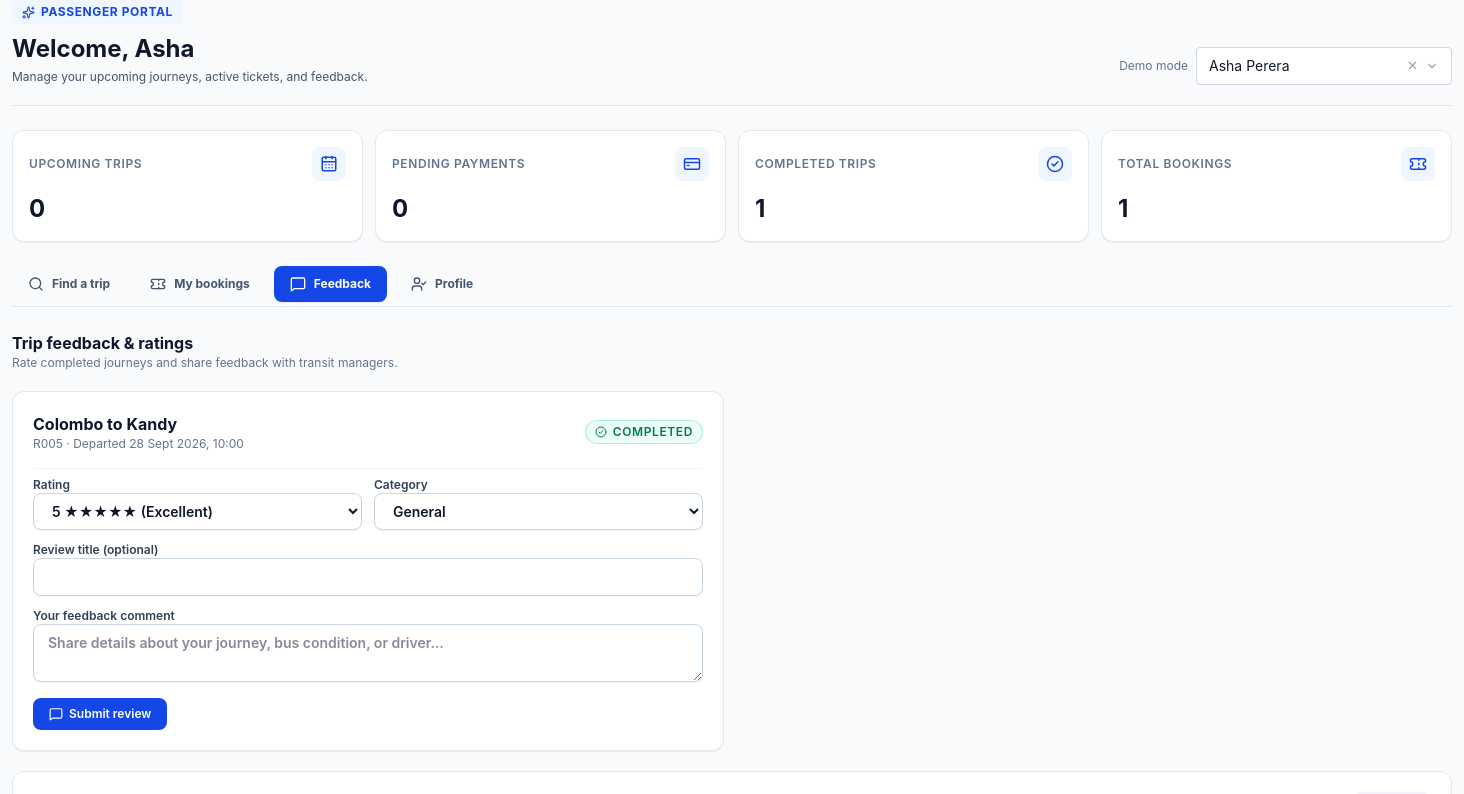
Scenario: Passenger review submission › shows the backend JSON error without showing a success message
Replace the text in the text box with placeholder "Share details about your journey, bus condition, or driver..." with "Keep this draft on failure.": [368, 652] box x1=33 y1=624 x2=703 y2=682
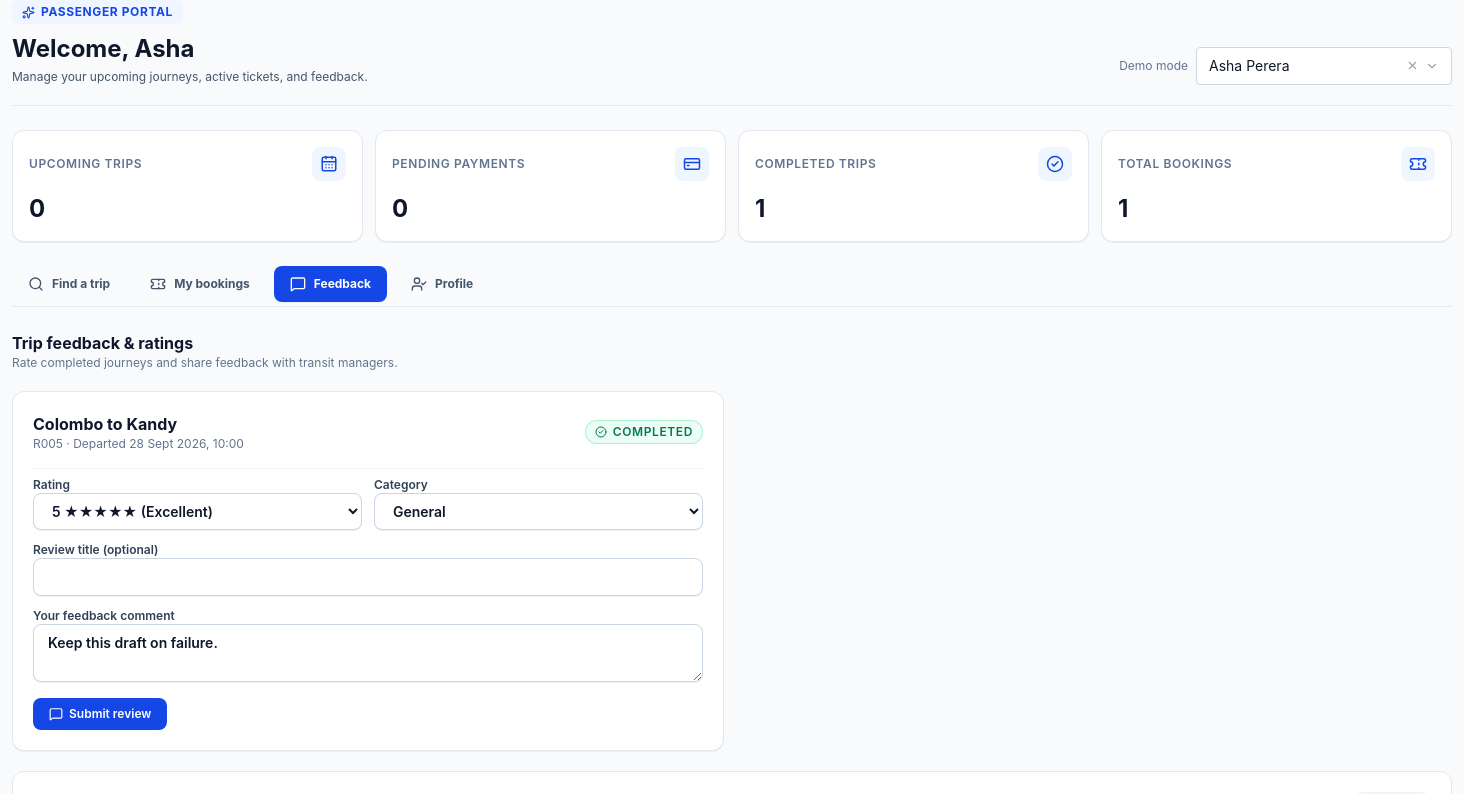
Click the button "Submit review": [100, 714] box x1=33 y1=698 x2=167 y2=730
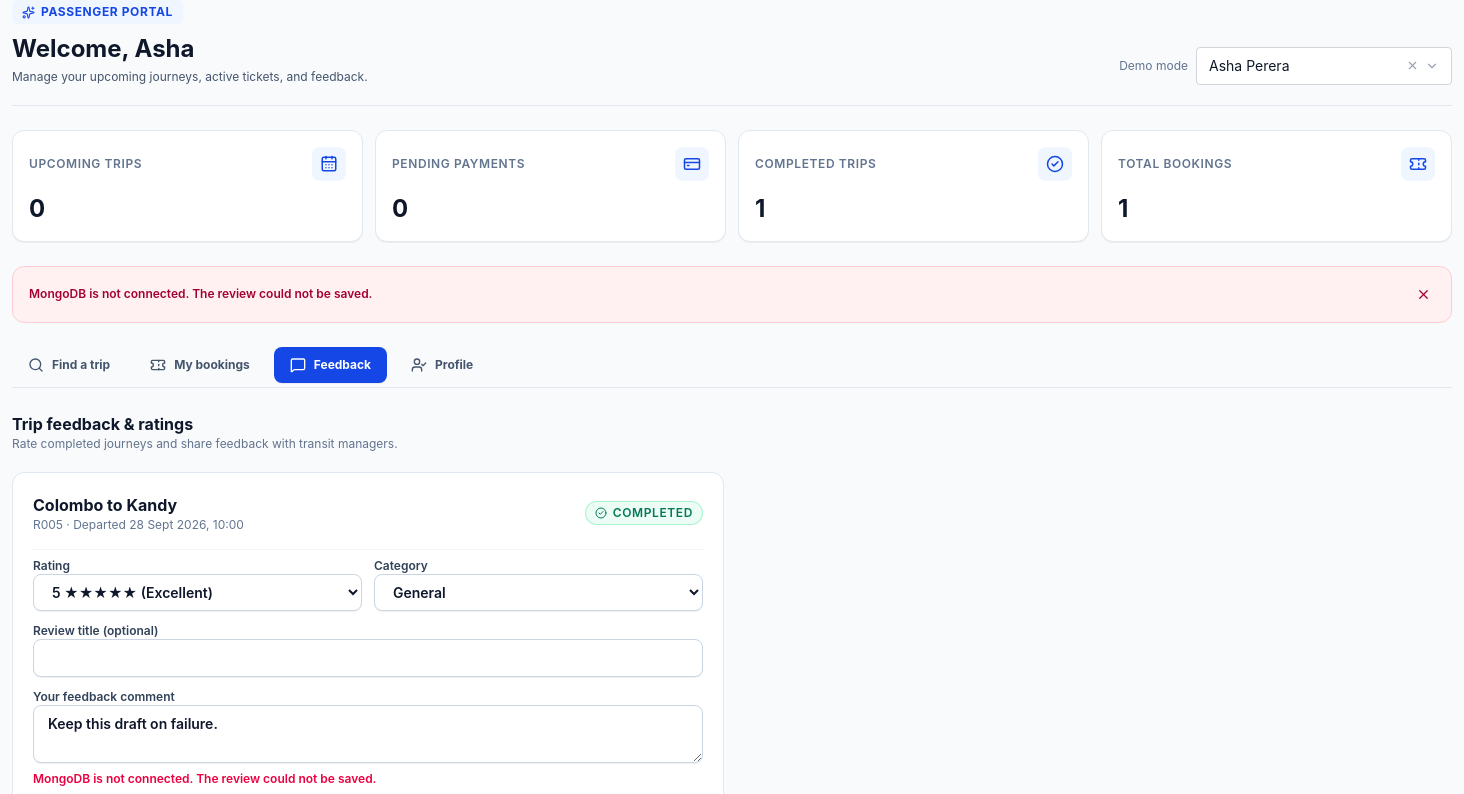
Expected: the text "MongoDB is not connected. The review could not be saved." is shown 2 times, x1=29 y1=286 x2=372 y2=302; x1=33 y1=770 x2=376 y2=786
